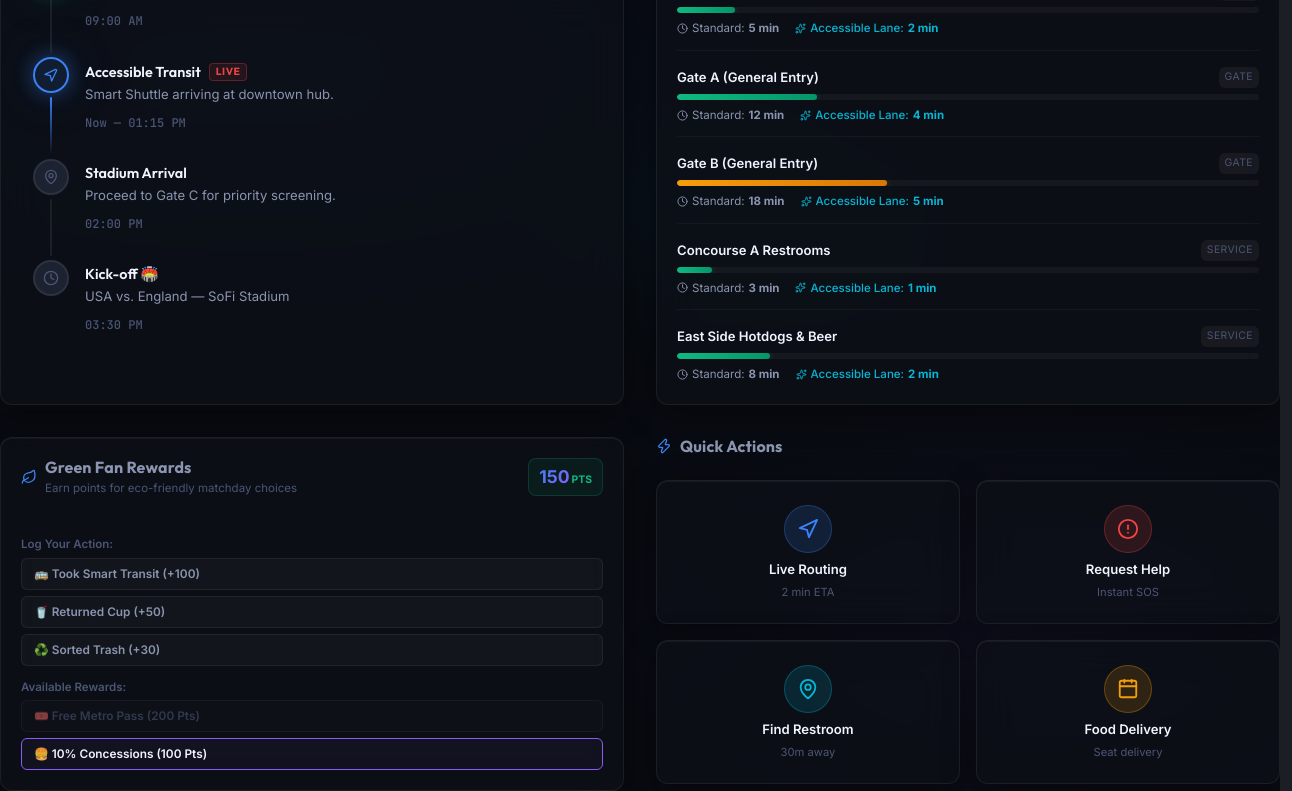
Test: Dashboard Page › logging a sustainability action increases the points total
(page scrolled)
Expected: the text "150" is shown, left=539, top=463, right=570, bottom=491
Step 1. Click the button "🥤 Returned Cup (+50)" → point(100, 612), box left=21, top=596, right=603, bottom=628
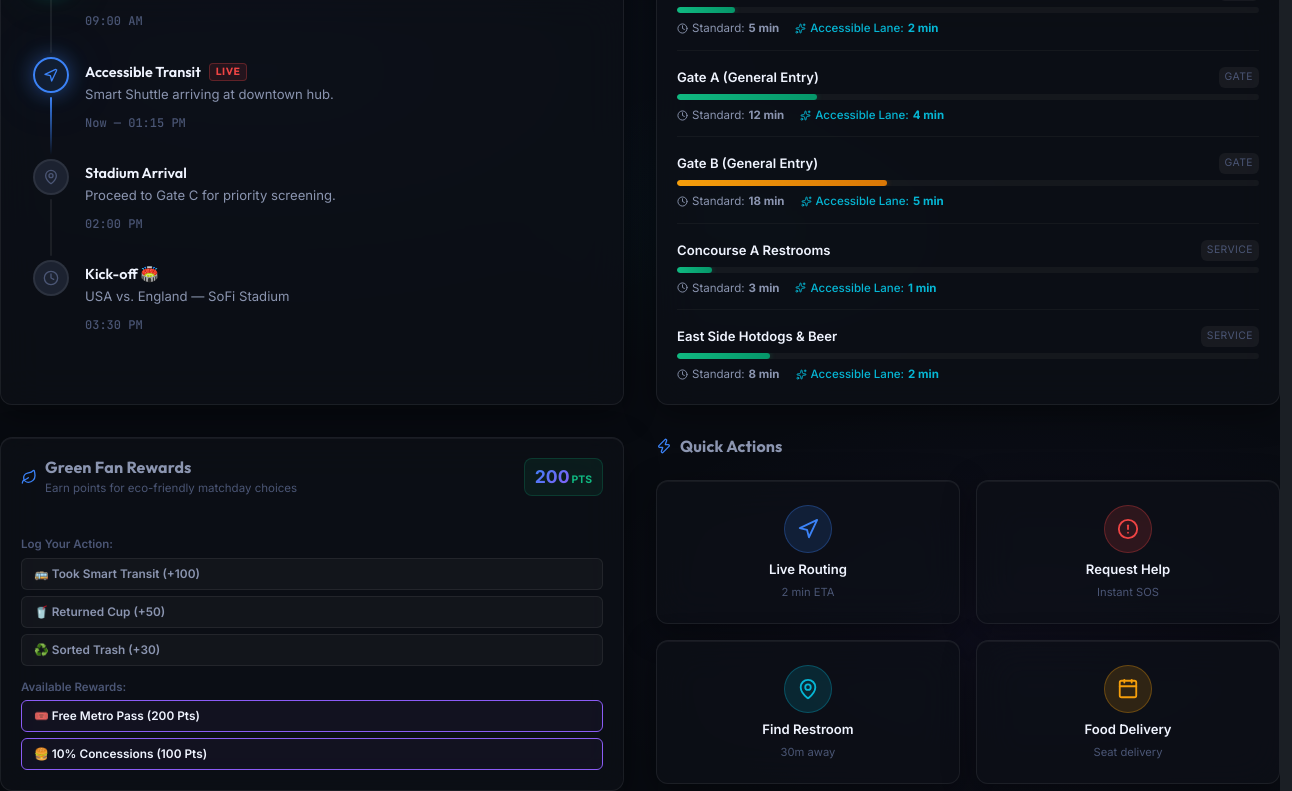
Result: the text "150" is gone
